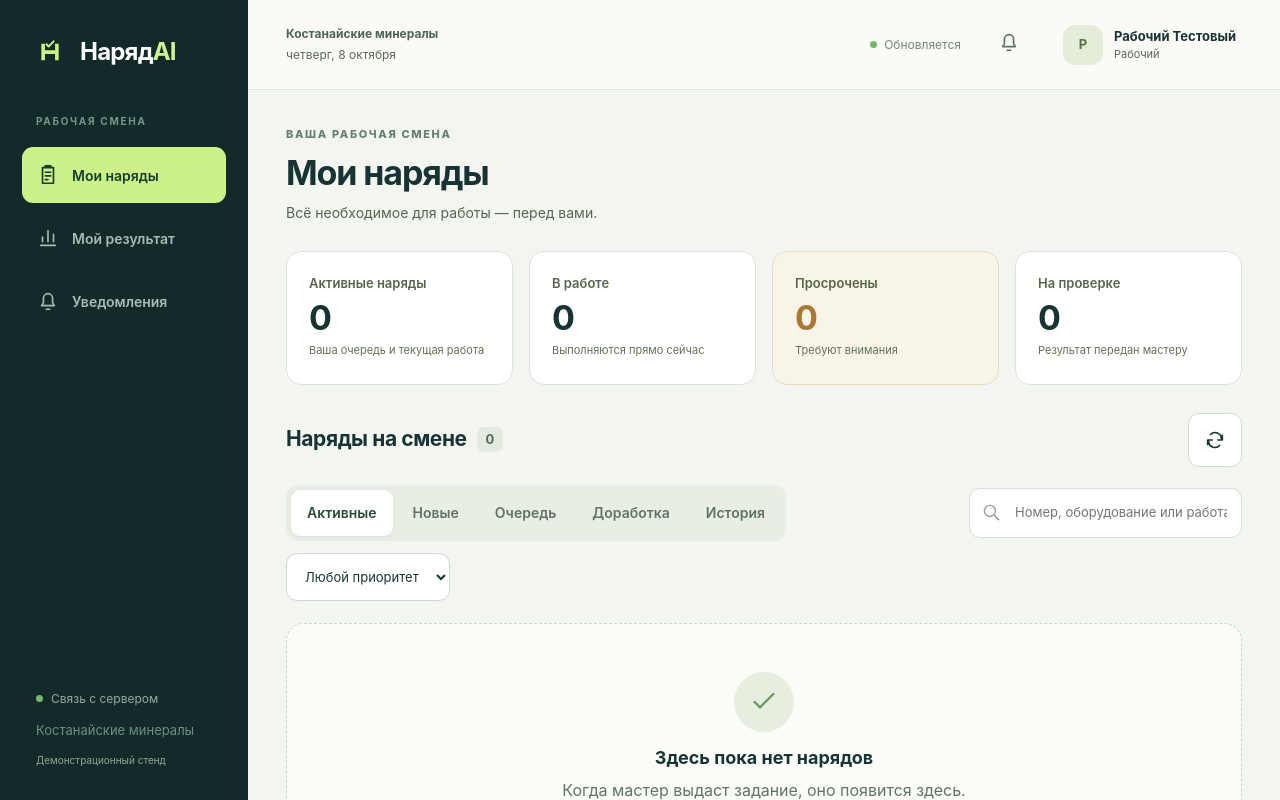
Test case: Оболочка рабочего приложения › выход очищает оба вида черновиков своего пользователя и сохраняет чужой namespace
This screenshot has width=1280, height=800.
Check: the heading "Мои наряды" is shown, box [286, 152, 489, 192]
Step 1. Click the button with aria-label "Открыть профиль" → click(1150, 44), box [1057, 18, 1242, 72]
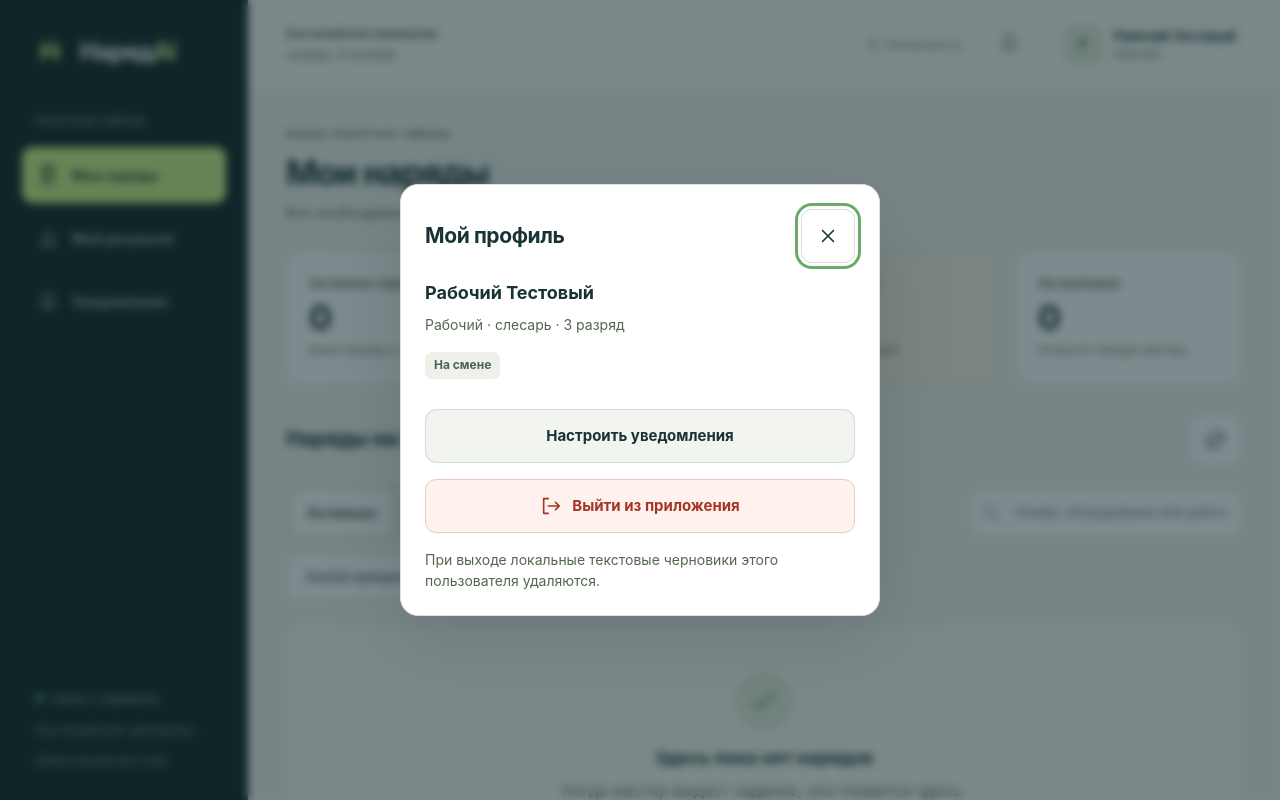
Step 2. Click the button "Выйти из приложения" → click(640, 506), box [425, 478, 855, 532]
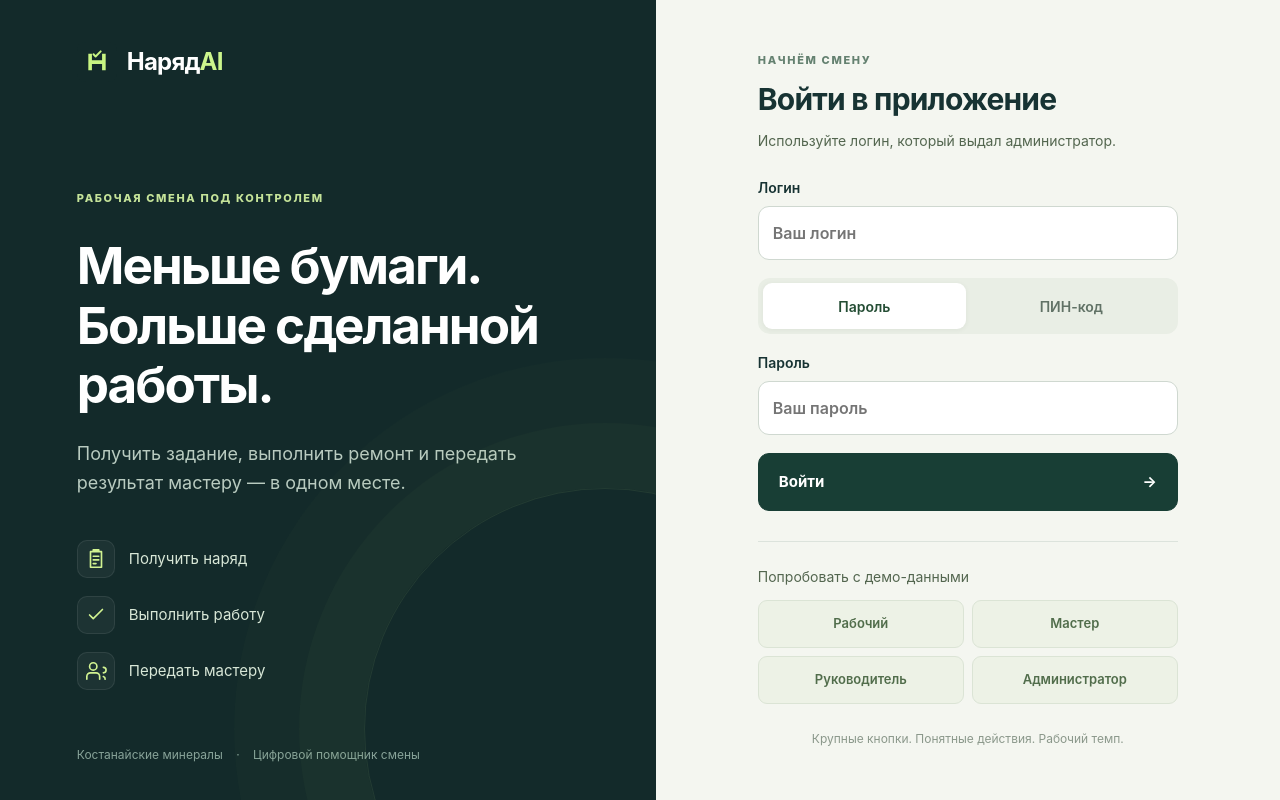
Check: the heading "Войти в приложение" is shown, box [758, 80, 1056, 116]
